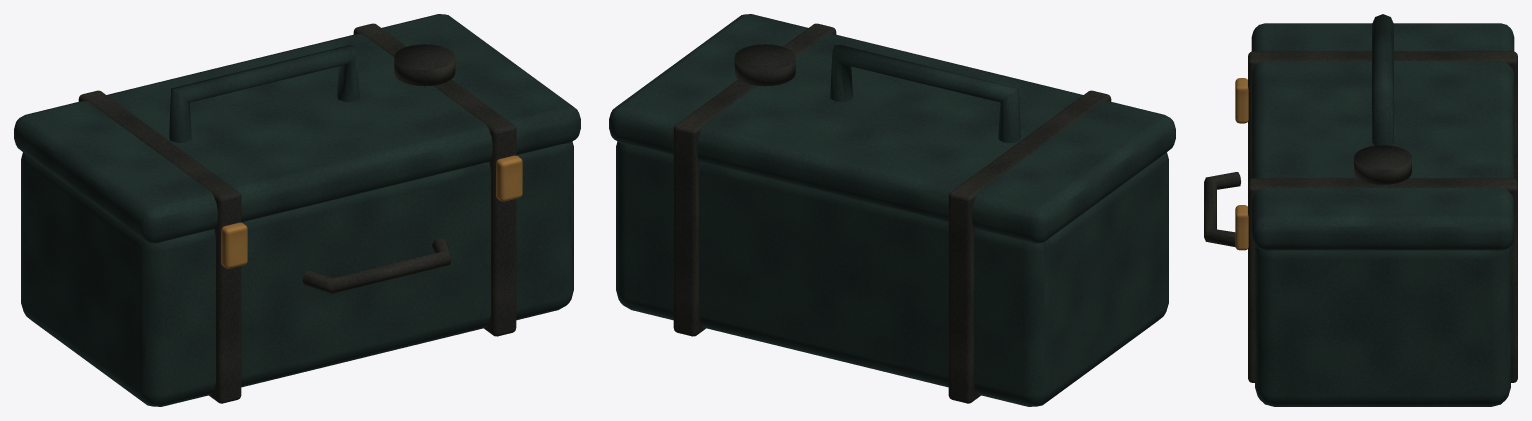
The model's file is Canister.fbx.
3 renders of one model, left to right at view 1: azimuth 30°, elevation 25°; view 2: azimuth 150°, elevation 25°; view 3: azimuth 270°, elevation 25°, orthographic. The views are drawn at different scales.
Parts seen in each view (by area): view 1: Canister_MotorPaint, Canister_Iron, Canister_Brass; view 2: Canister_MotorPaint, Canister_Iron; view 3: Canister_MotorPaint, Canister_Iron, Canister_Brass.
Part boxes in pixels (x1,y1,x2,y2): Canister_MotorPaint: (14,14,580,406); Canister_Iron: (78,23,516,403); Canister_Brass: (221,155,522,268); Canister_MotorPaint: (609,14,1175,406); Canister_Iron: (673,23,1111,403); Canister_MotorPaint: (1251,14,1514,406); Canister_Iron: (1204,51,1517,382); Canister_Brass: (1235,78,1248,250).
Bounding box in the file's own units: 86.2 × 48.41 × 56.41.
